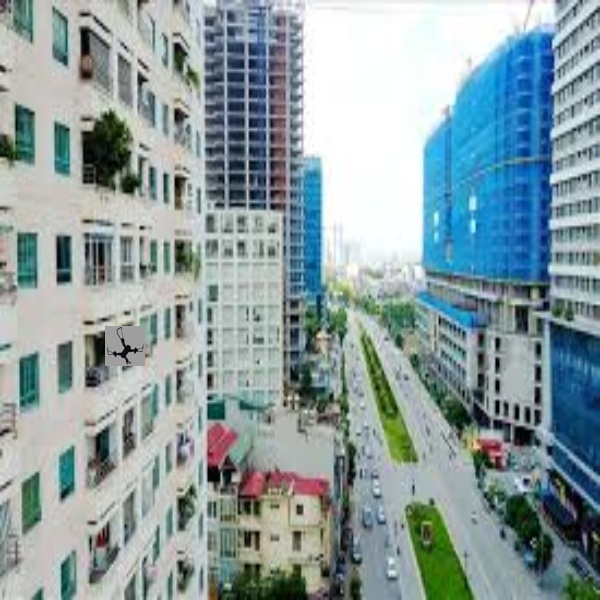drone: (105, 322, 147, 371)
